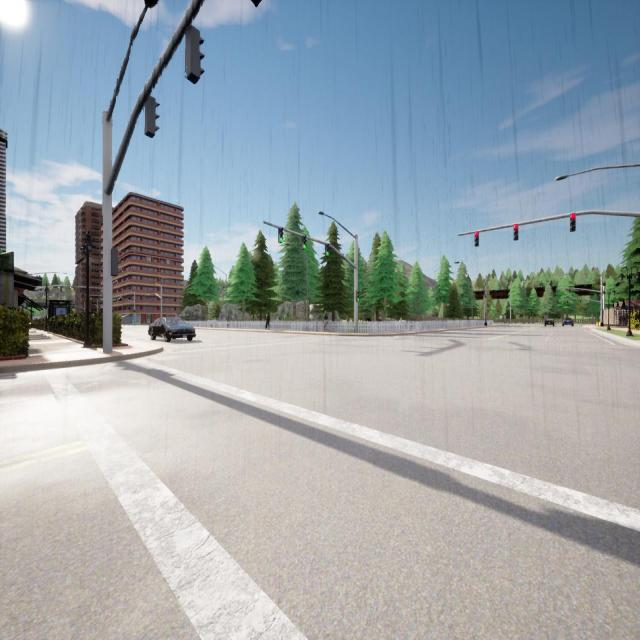Pedestrian: (265, 312, 270, 329), (324, 311, 328, 332)
Traffic_Signs: (499, 315, 502, 319)
Vehicle: (149, 317, 195, 341), (562, 318, 574, 326), (545, 318, 554, 326)
traffic_light: (186, 25, 204, 84), (146, 97, 160, 139), (111, 249, 118, 275), (570, 214, 576, 231), (278, 227, 283, 243), (474, 231, 479, 246), (514, 224, 518, 240), (302, 236, 306, 249), (325, 244, 329, 256), (356, 290, 359, 302), (569, 288, 571, 293), (90, 296, 92, 300), (101, 297, 103, 301), (114, 297, 116, 301), (134, 310, 135, 314), (557, 299, 558, 303), (567, 299, 568, 303), (580, 298, 581, 302)
